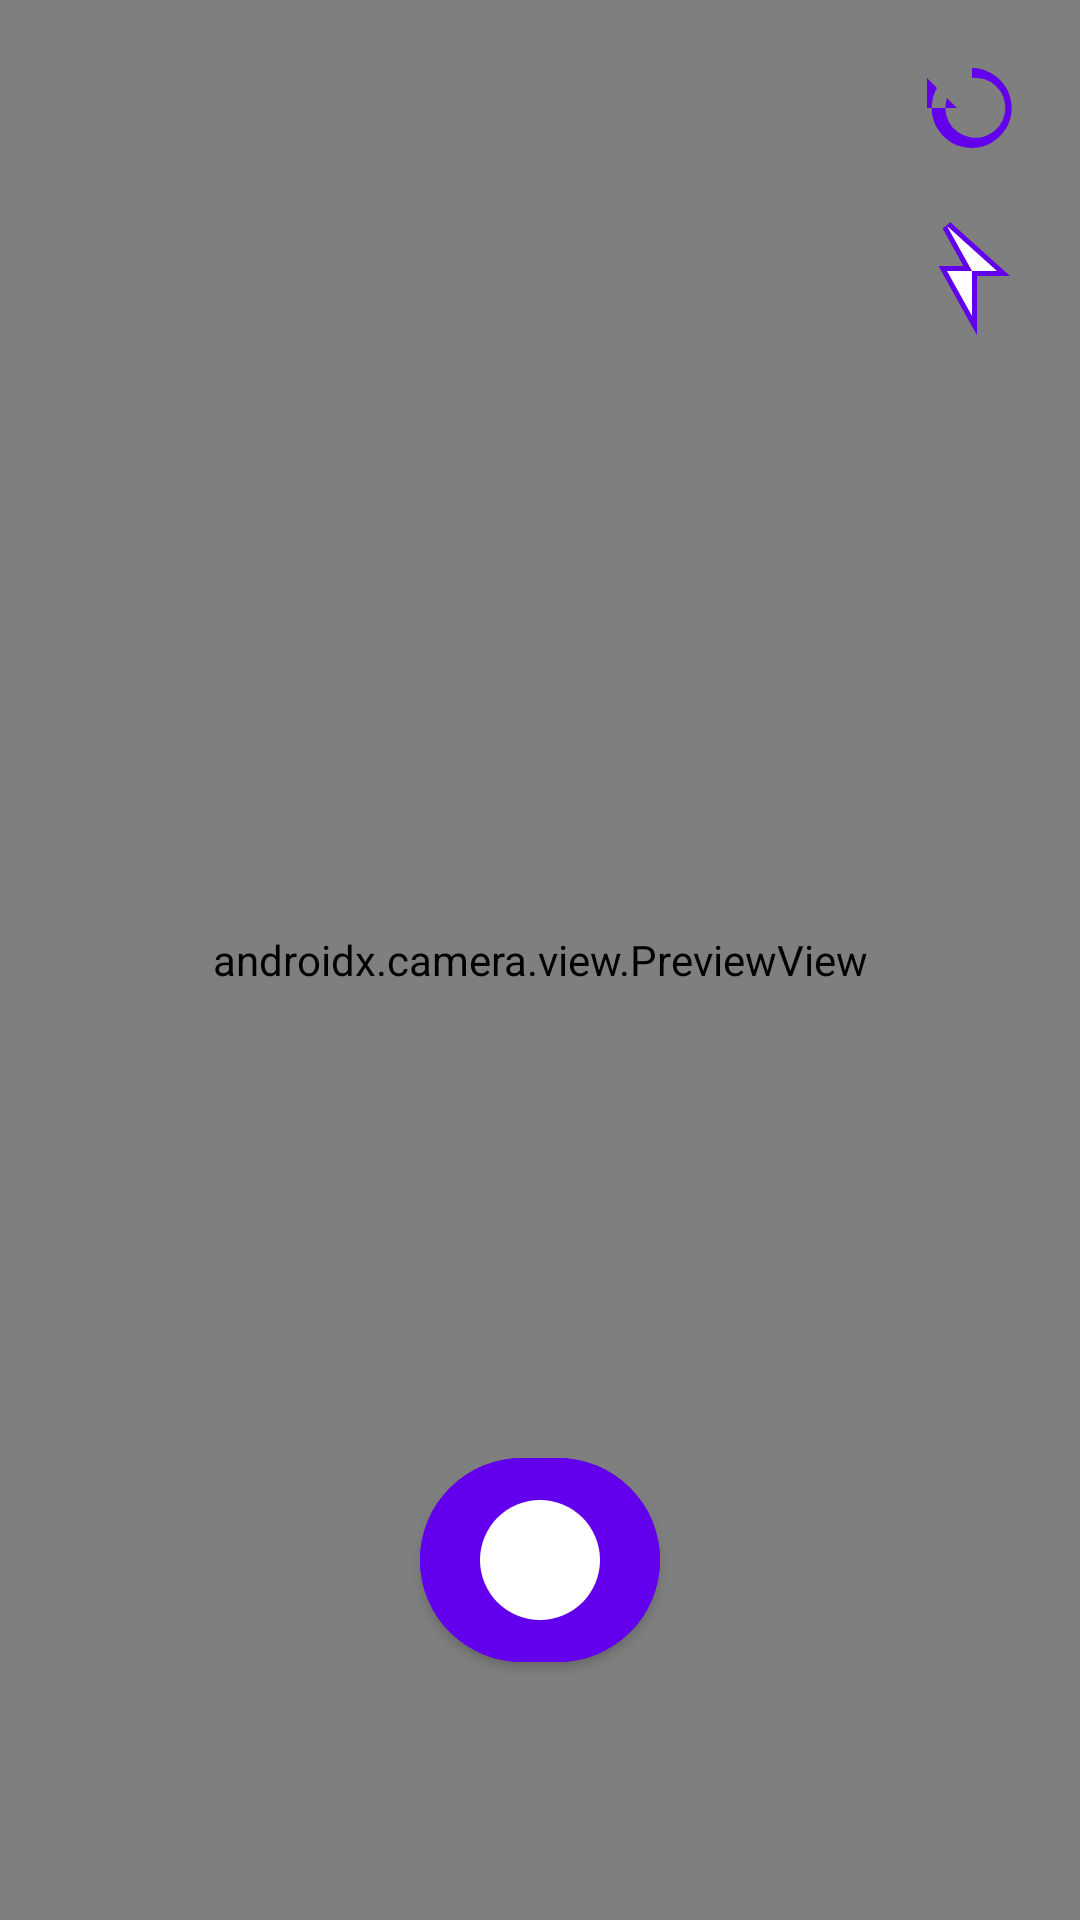

Icon bounding boxes for this 1080*1920 phone screenshot, format (x1, y1, x2, y2):
circle: (420, 1458, 660, 1662)
flash state off: (938, 222, 1010, 335)
switch: (927, 68, 1012, 148)
